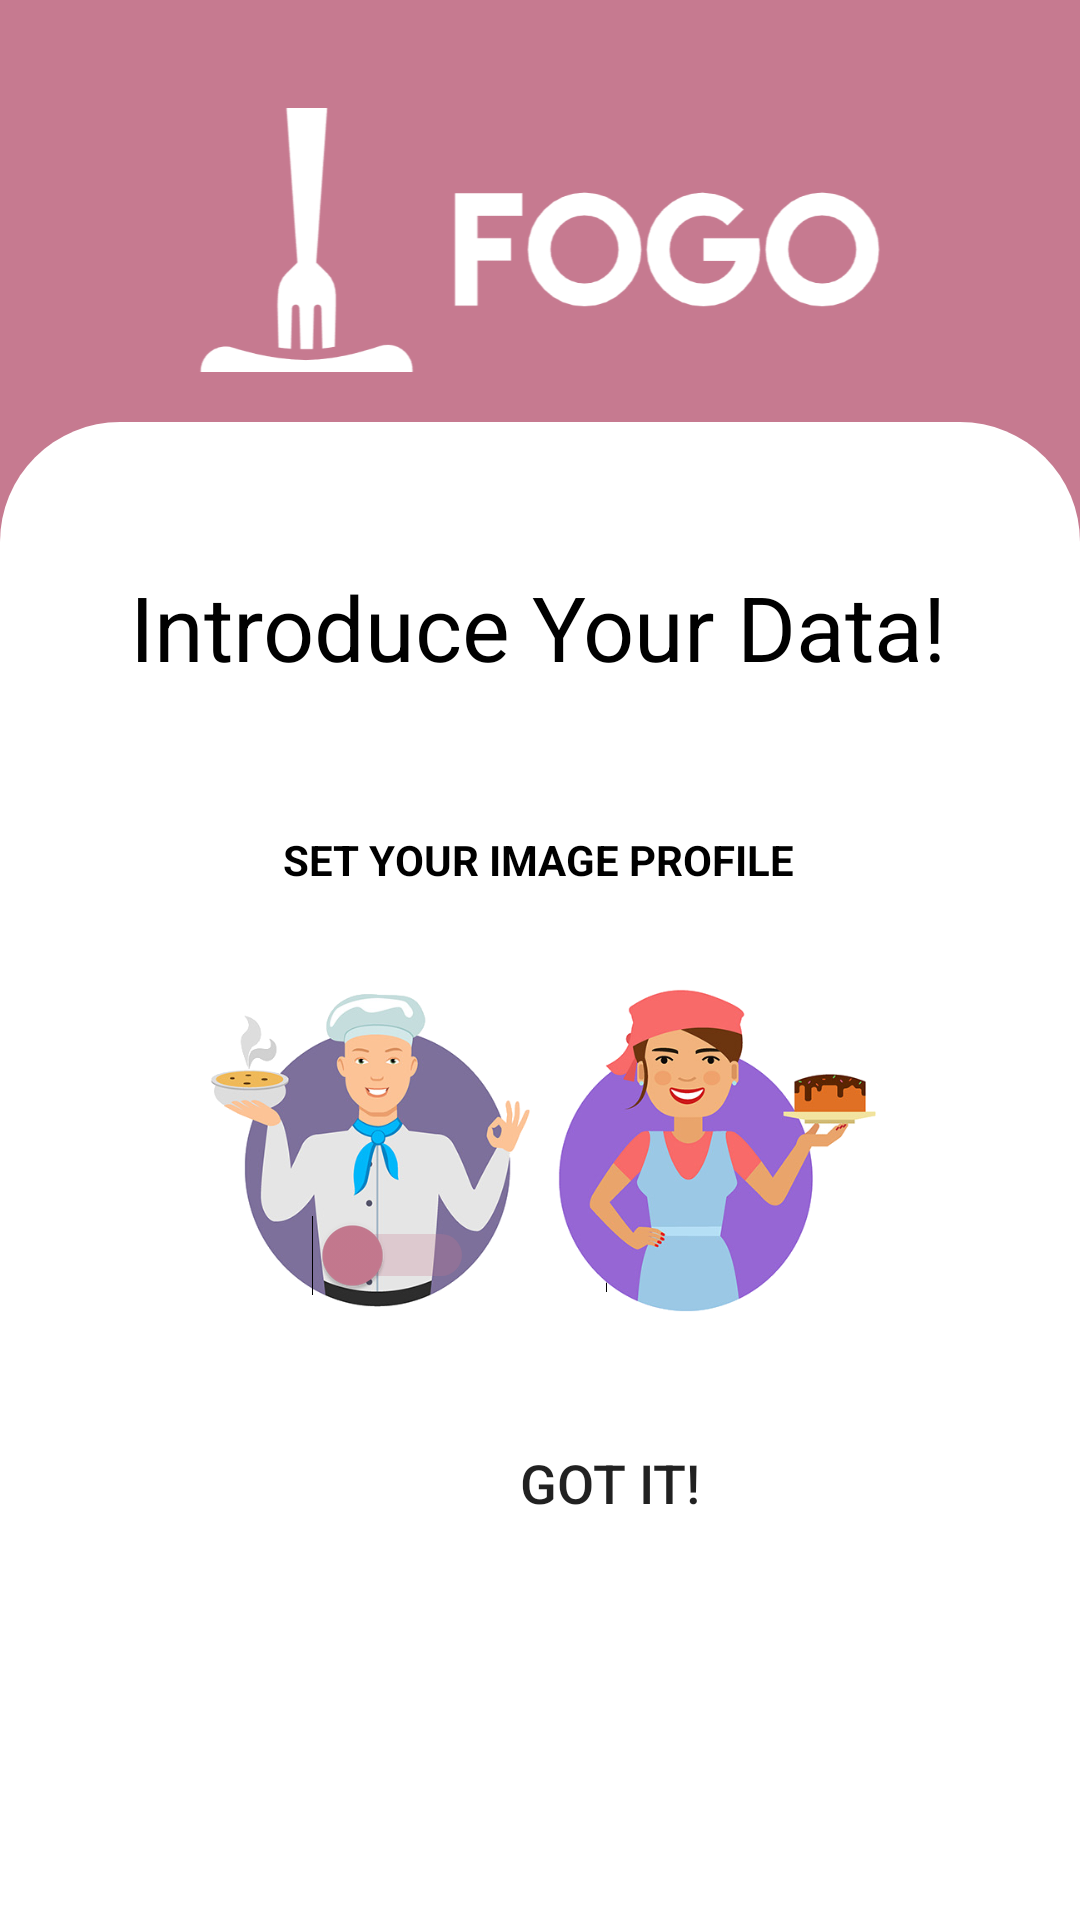

Screen size 1080 × 1920. Icon name, then its box in pixels as bbox=[x1, y1, x2, y2]:
iconprofile: bbox=[559, 990, 876, 1311], bbox=[211, 994, 530, 1307]
